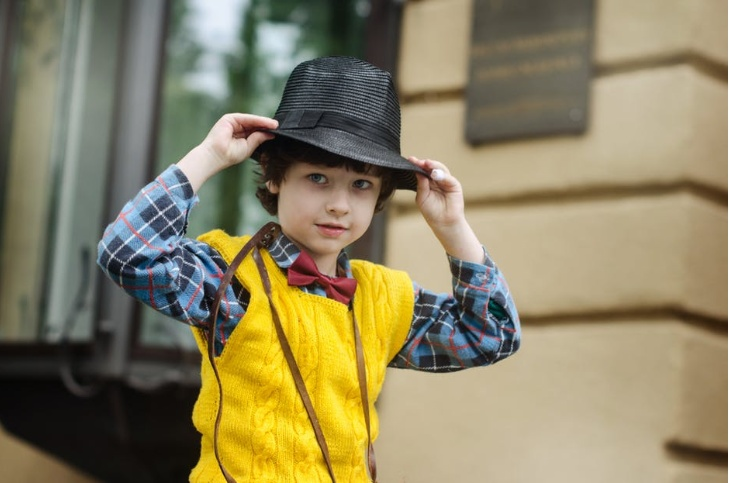face: (279, 165, 380, 253)
